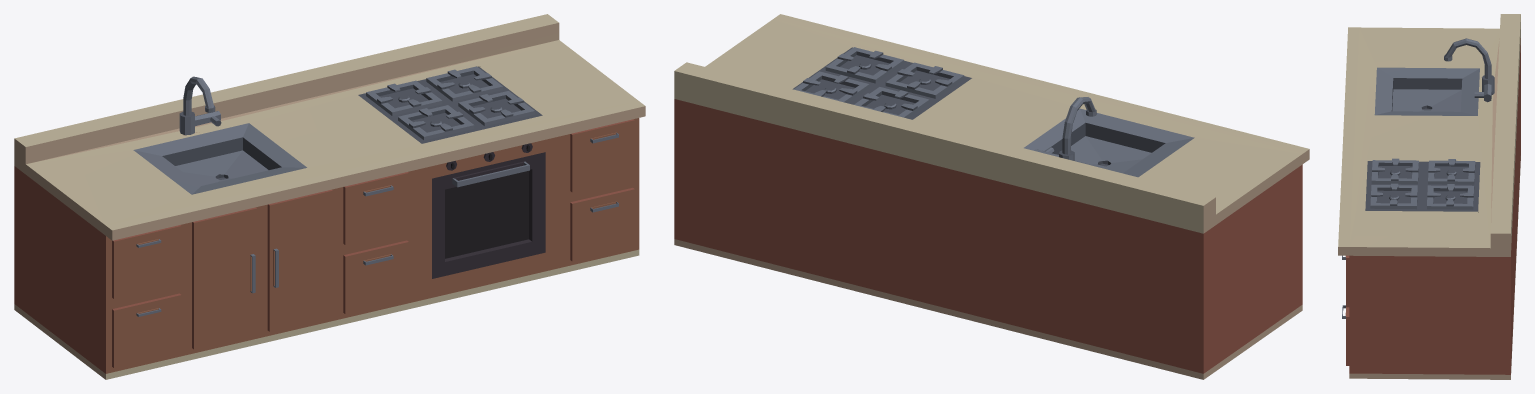
The model's file is Kompor.fbx.
3 renders of one model, left to right at view 1: azimuth 30°, elevation 25°; view 2: azimuth 150°, elevation 25°; view 3: azimuth 270°, elevation 25°, orthographic. The views are drawn at different scales.
Parts seen in each view (by area): view 1: Dapur 2; view 2: Dapur 2; view 3: Dapur 2.
Boxes of the visible parts, x1,y1,x2,y2 form: Dapur 2: (14,14,645,379); Dapur 2: (674,14,1309,379); Dapur 2: (1338,14,1520,379).
Size of the model in its own units: 648 by 254 by 226.
